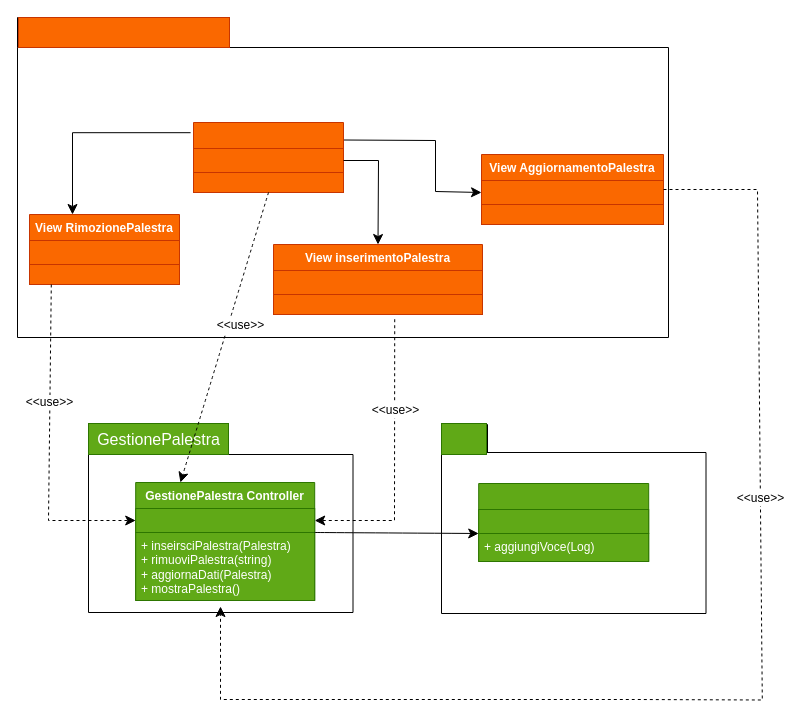
This 802x728 diagram has some shape labels left out. The shapes that lost their labels are listed below. From the top down, each one's box as (x1, y1, x2, y2) in pixels, then its label:
(18, 16, 230, 48): Interfaccia GestionePalestra
(192, 122, 344, 192): Home GestionePalestra
(440, 422, 486, 454): Log
(478, 482, 649, 562): Registrazione Controller
